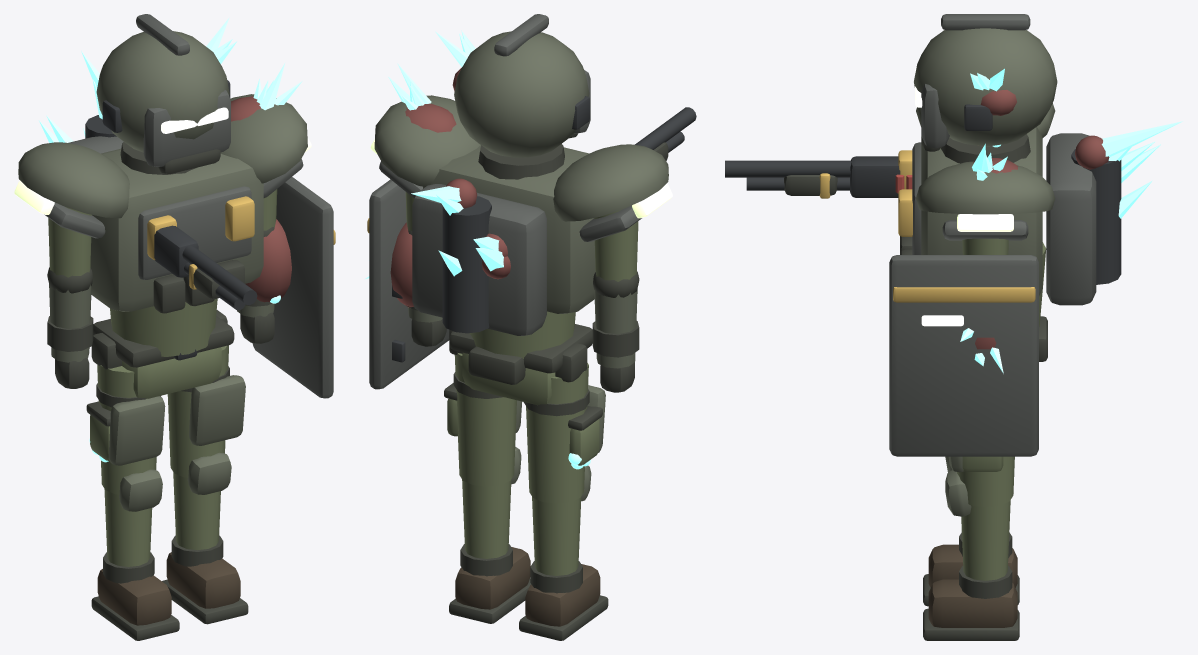
Rendered from breacher.glb.
3 renders of one model, left to right at view 1: azimuth 30°, elevation 25°; view 2: azimuth 150°, elevation 25°; view 3: azimuth 270°, elevation 25°, orthographic. The views are drawn at different scales.
Parts seen in each view (by area): view 1: torso_mesh, head_mesh, elbow_l_mesh, knee_r_mesh, knee_l_mesh, leg_r_mesh, hips_mesh, leg_l_mesh, elbow_r_mesh, gun_mesh, grow3_elbow_l, arm_r_mesh (+4 smaller); view 2: torso_mesh, head_mesh, knee_r_mesh, elbow_l_mesh, knee_l_mesh, leg_r_mesh, leg_l_mesh, hips_mesh, elbow_r_mesh, grow3_torso, arm_r_mesh, grow2_torso (+3 smaller); view 3: elbow_l_mesh, torso_mesh, head_mesh, knee_l_mesh, gun_mesh, grow3_torso, leg_l_mesh, knee_r_mesh, grow3_head, arm_l_mesh, grow2_torso.
Part boxes in pixels (x1,y1,x2,y2): torso_mesh: (14, 94, 311, 356); head_mesh: (96, 14, 230, 173); elbow_l_mesh: (237, 177, 335, 398); knee_r_mesh: (91, 469, 179, 640); knee_l_mesh: (162, 452, 248, 624); leg_r_mesh: (86, 365, 165, 494); hips_mesh: (91, 310, 234, 398); leg_l_mesh: (167, 345, 245, 477); elbow_r_mesh: (47, 267, 93, 388); gun_mesh: (154, 225, 257, 310); grow3_elbow_l: (245, 219, 291, 302); arm_r_mesh: (48, 206, 91, 277); torso_mesh: (370, 95, 672, 359); head_mesh: (454, 14, 590, 157); knee_r_mesh: (519, 465, 608, 640); elbow_l_mesh: (367, 179, 449, 389); knee_l_mesh: (449, 447, 531, 623); leg_r_mesh: (523, 363, 605, 503); leg_l_mesh: (444, 353, 521, 486); hips_mesh: (449, 324, 592, 404); elbow_r_mesh: (592, 271, 639, 392); grow3_torso: (411, 178, 510, 279); arm_r_mesh: (594, 210, 638, 281); grow2_torso: (388, 63, 456, 132); elbow_l_mesh: (889, 255, 1038, 456); torso_mesh: (898, 103, 1121, 326); head_mesh: (914, 14, 1057, 151); knee_l_mesh: (923, 470, 1019, 640); gun_mesh: (725, 156, 912, 198); grow3_torso: (1075, 121, 1182, 218); leg_l_mesh: (948, 456, 1014, 507); knee_r_mesh: (923, 456, 1019, 606); grow3_head: (970, 68, 1016, 115); arm_l_mesh: (962, 238, 1008, 254); grow2_torso: (972, 143, 1018, 180).
Bounding box in the file's own units: 0.9637 × 1.85 × 1.29.
